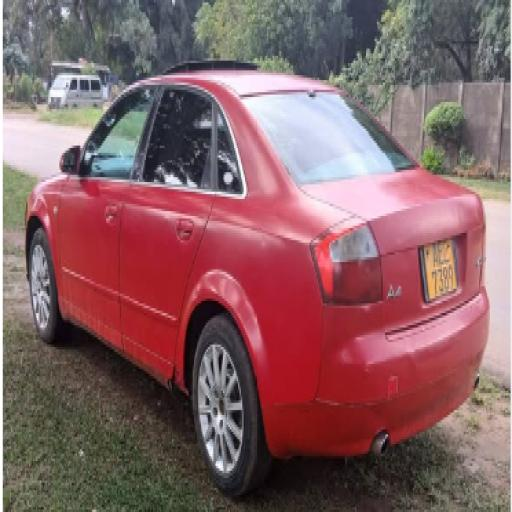number-plates: (420, 236, 462, 295)
